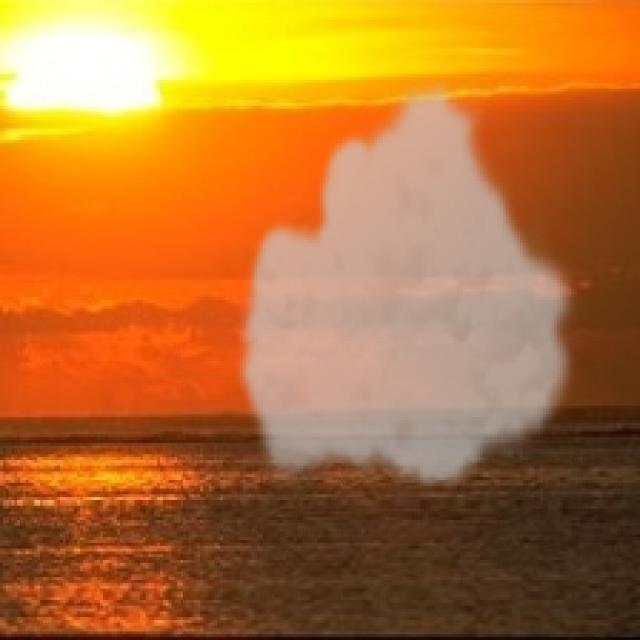smoke: (234, 74, 583, 492)
